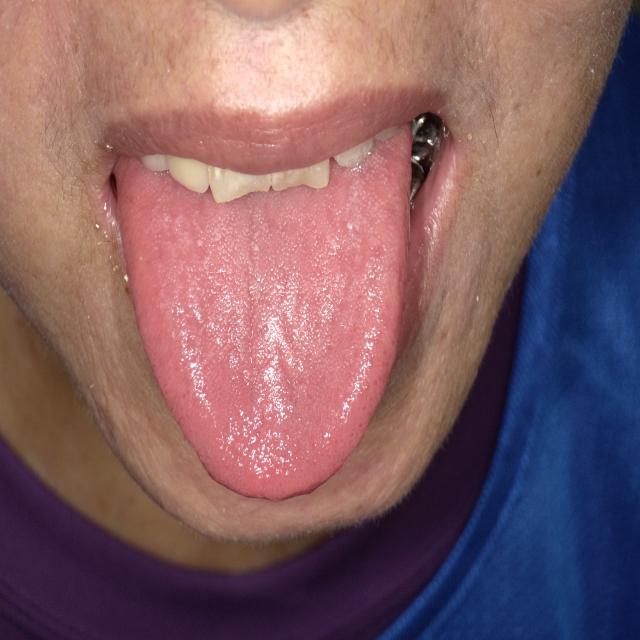huataishe: (215, 406, 300, 476)
